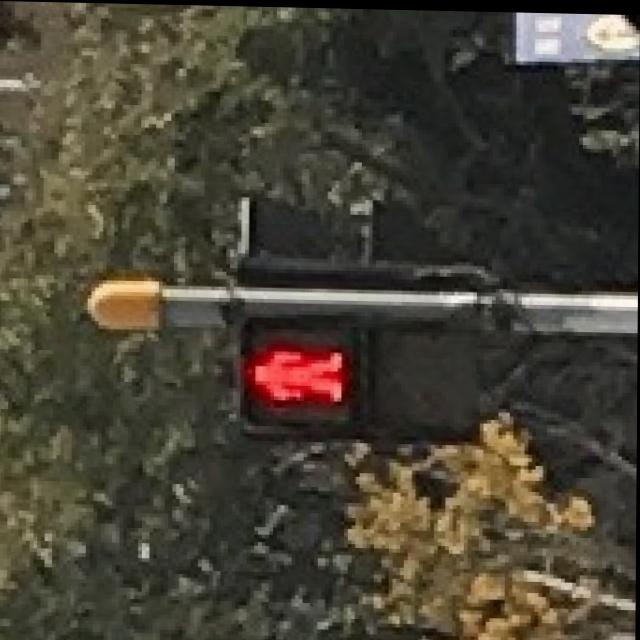red_light: (237, 326, 350, 429)
